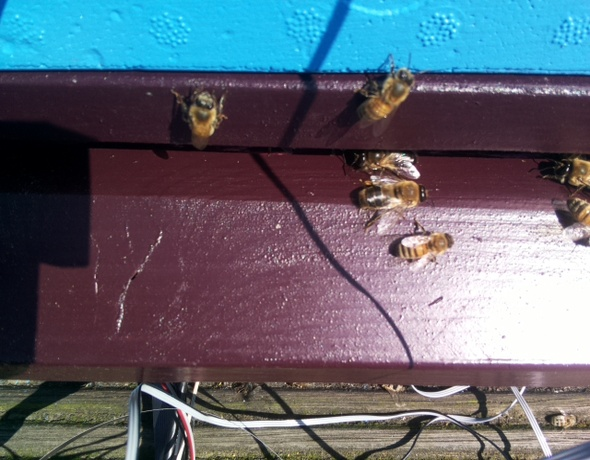no_pollen: (351, 64, 420, 127), (395, 224, 456, 265), (357, 177, 427, 212), (182, 86, 220, 144), (548, 153, 590, 190), (341, 147, 402, 172), (560, 193, 590, 243)
